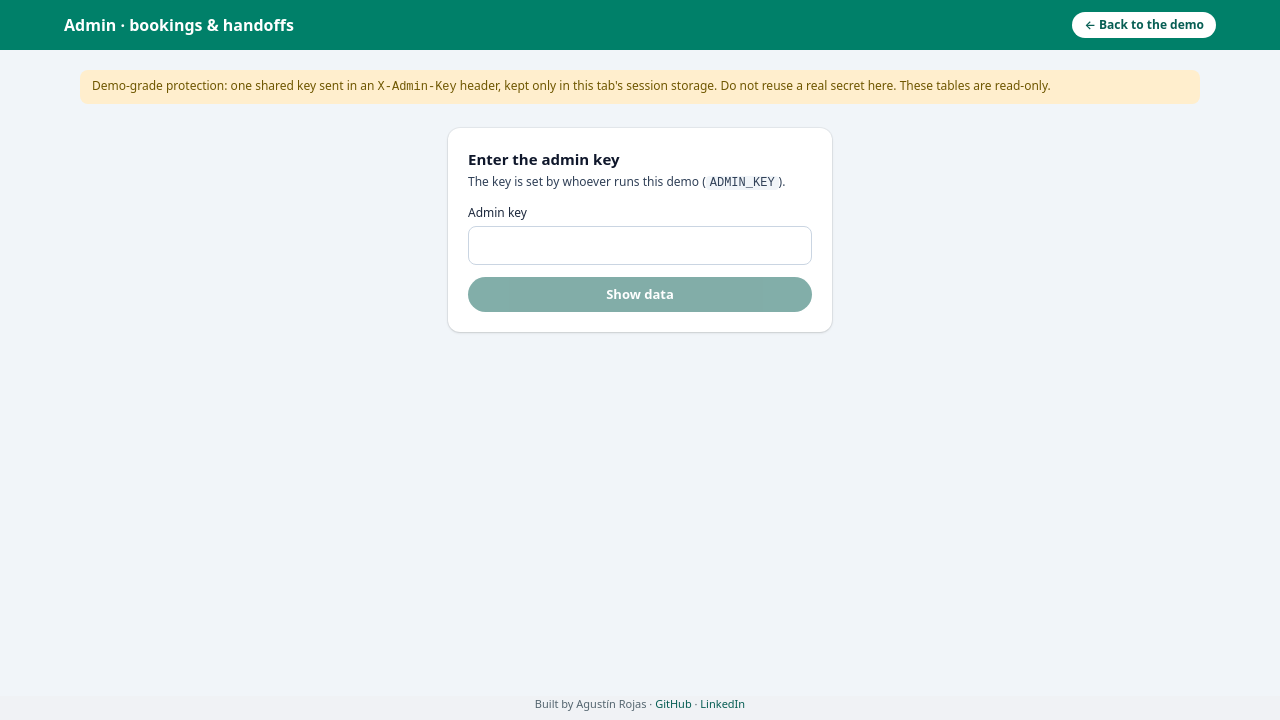
AdminPage › shows an empty state per table
Type "secret" into the password field labelled "Admin key". click: (640, 245)
box: [468, 226, 812, 264]
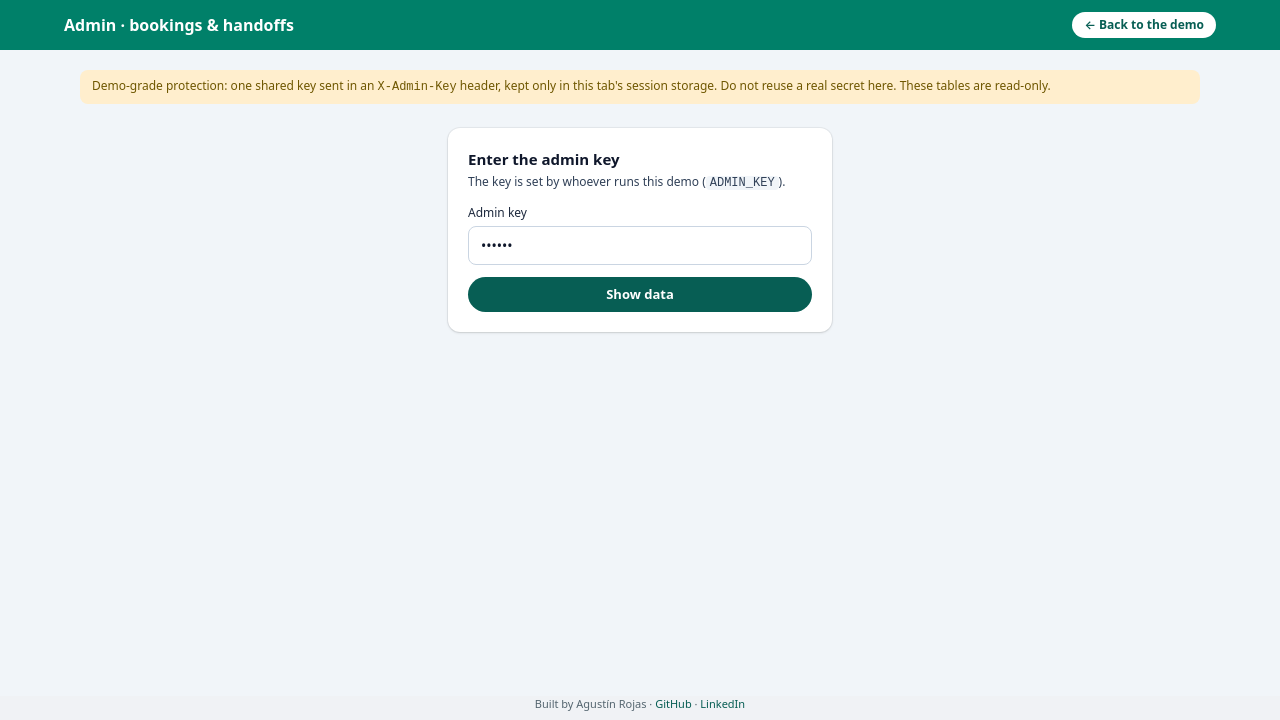
Click the button "Show data". click: (640, 294)
box: [468, 276, 812, 312]
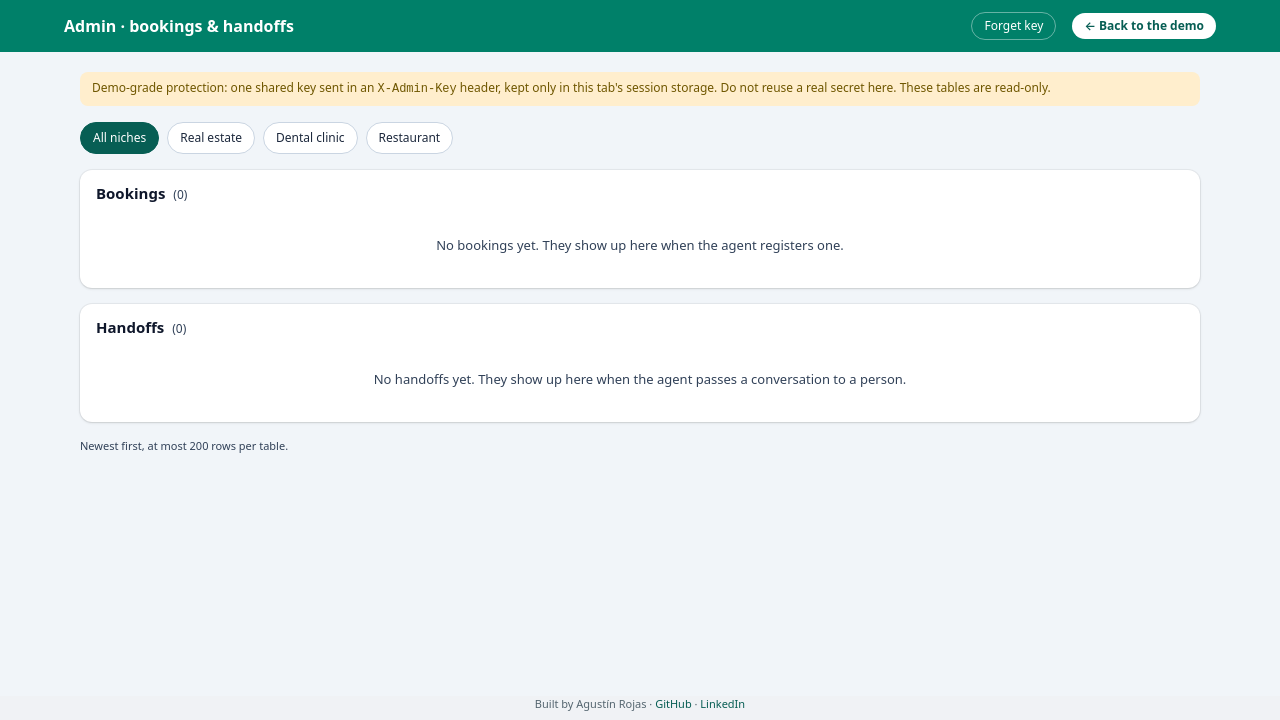
Check: the text "No bookings yet" is shown, box [436, 236, 844, 254]
Check: the text "No handoffs yet" is shown, box [374, 370, 906, 388]
